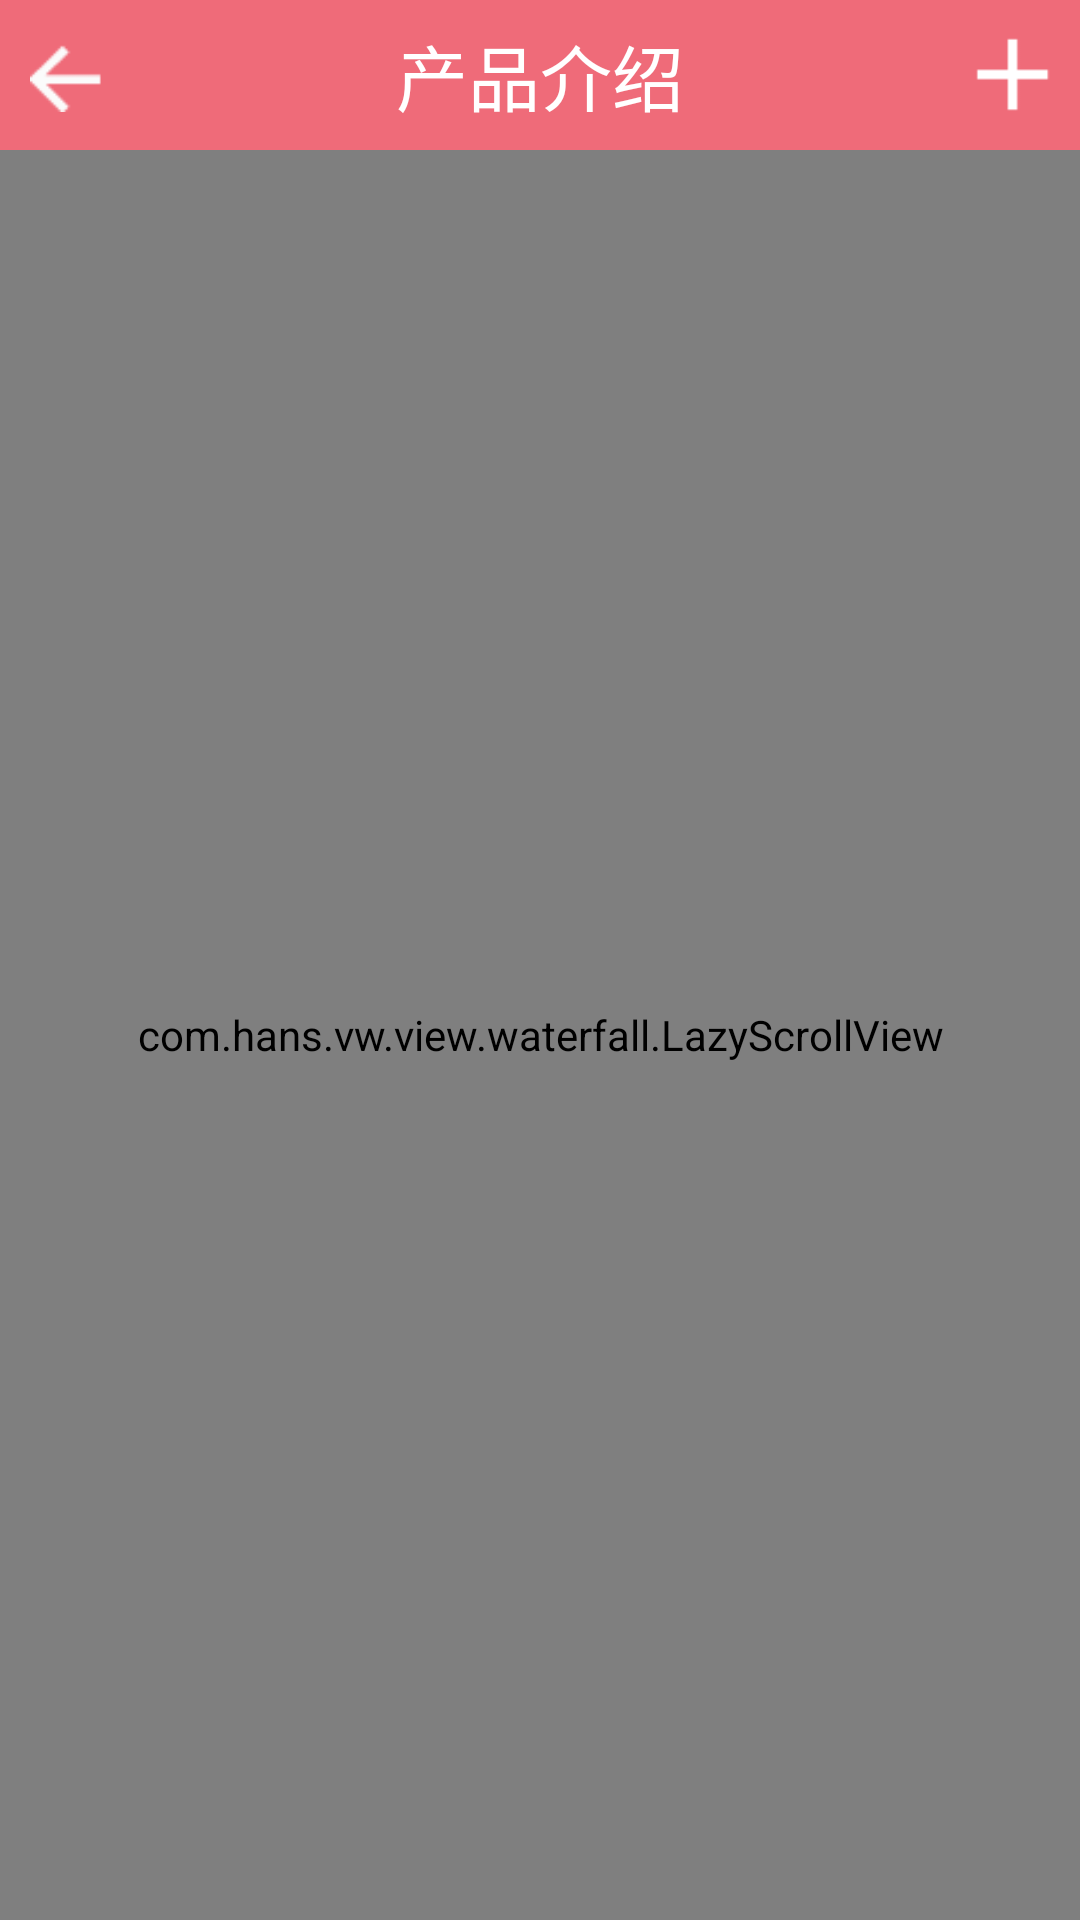

Icons on this 1080 x 1920 Android screen, each with the point to tap as point (x, y):
add: point (1013, 74)
